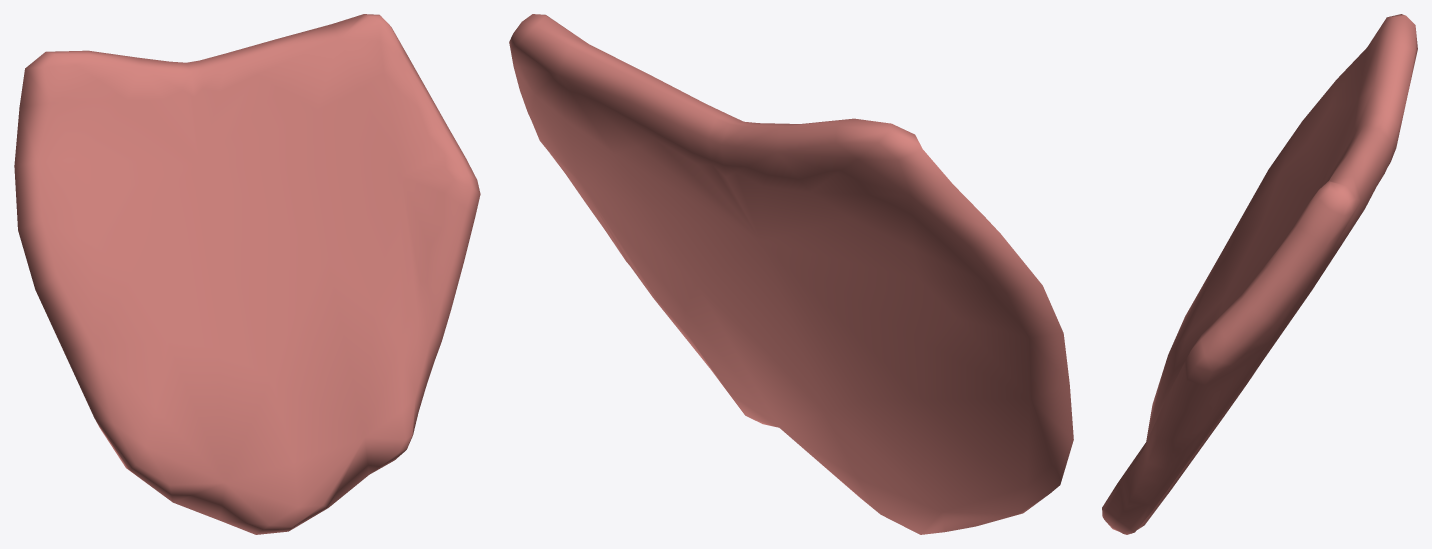
The picture shows the model from 3 angles, left to right: view 1: azimuth 30°, elevation 25°; view 2: azimuth 150°, elevation 25°; view 3: azimuth 270°, elevation 25°; orthographic projection. The views are drawn at different scales.
Visible parts, largest first — view 1: ZA_58000ab087af0d58; view 2: ZA_58000ab087af0d58; view 3: ZA_58000ab087af0d58.
Boxes of the visible parts, x1,y1,x2,y2 form: ZA_58000ab087af0d58: (14, 14, 480, 534); ZA_58000ab087af0d58: (509, 14, 1073, 534); ZA_58000ab087af0d58: (1102, 14, 1417, 534).
Bounding box in the file's own units: 0.0056 × 0.00539 × 0.0034.
